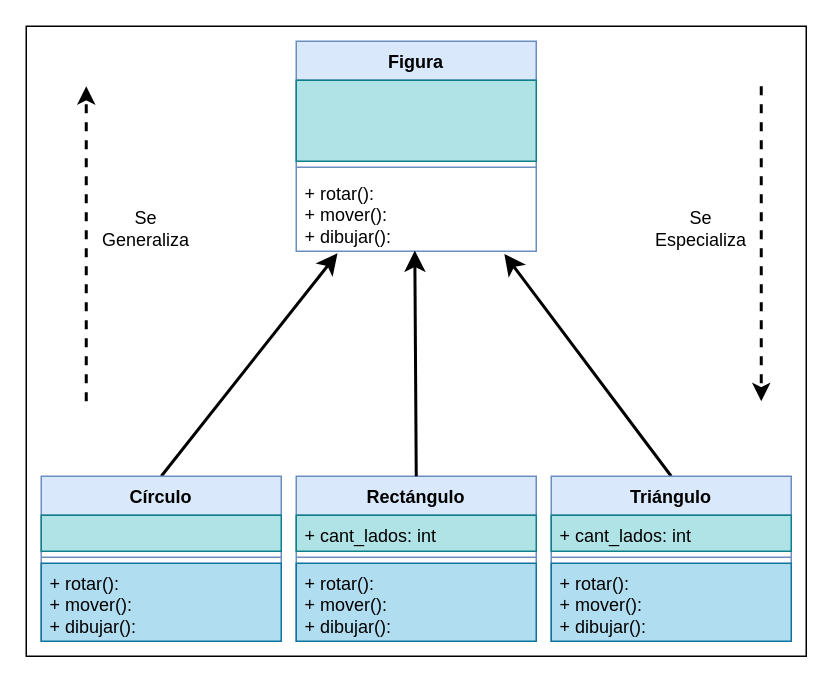
Some shapes in this 833 by 683 pixel diagram are drawn without their labels. Here are the shapes that lost their labels. From the top down, the centre of each, then its label:
point 415,120: + tamaño: int,int + posición: float, float + color: str
point 160,532: + radio: int
